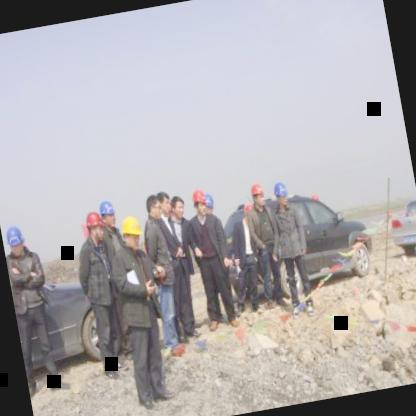head: (166, 190, 190, 226), (156, 190, 175, 222), (145, 192, 164, 221)
helmet: (114, 210, 146, 260), (2, 218, 30, 262), (82, 207, 106, 246), (94, 195, 118, 232), (188, 186, 210, 219), (248, 180, 268, 211), (271, 177, 291, 207), (200, 192, 217, 219)
